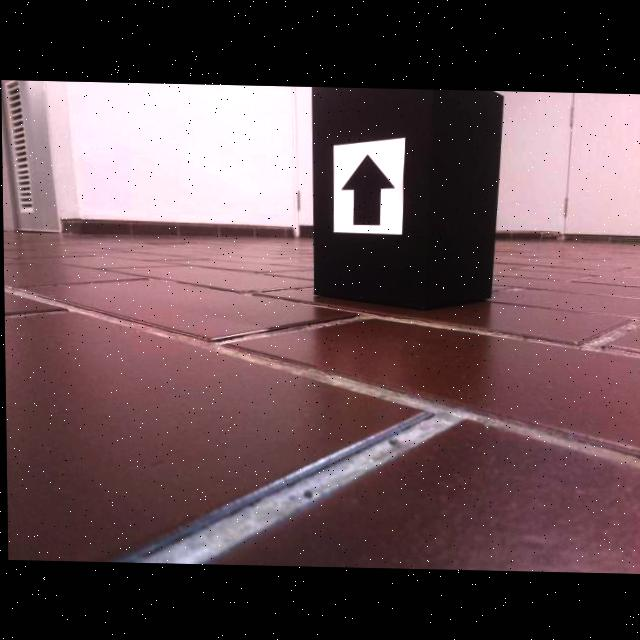UP: (340, 152, 395, 225)
